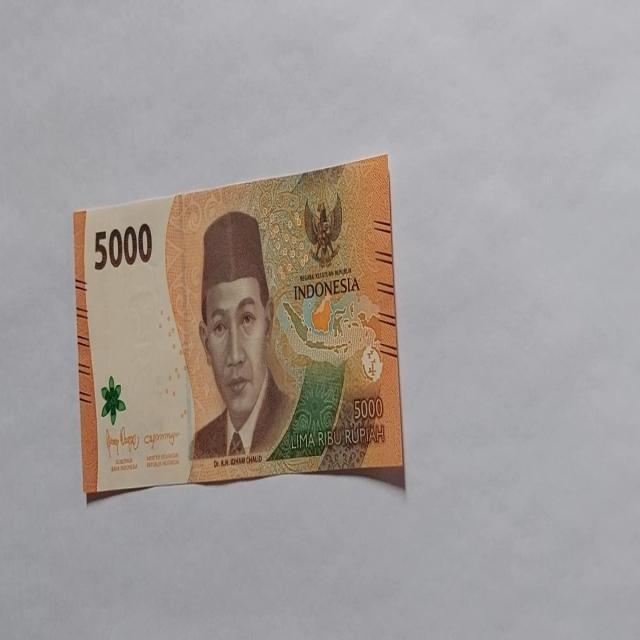lima ribu rupiah: (73, 154, 404, 498), (188, 209, 298, 465)
